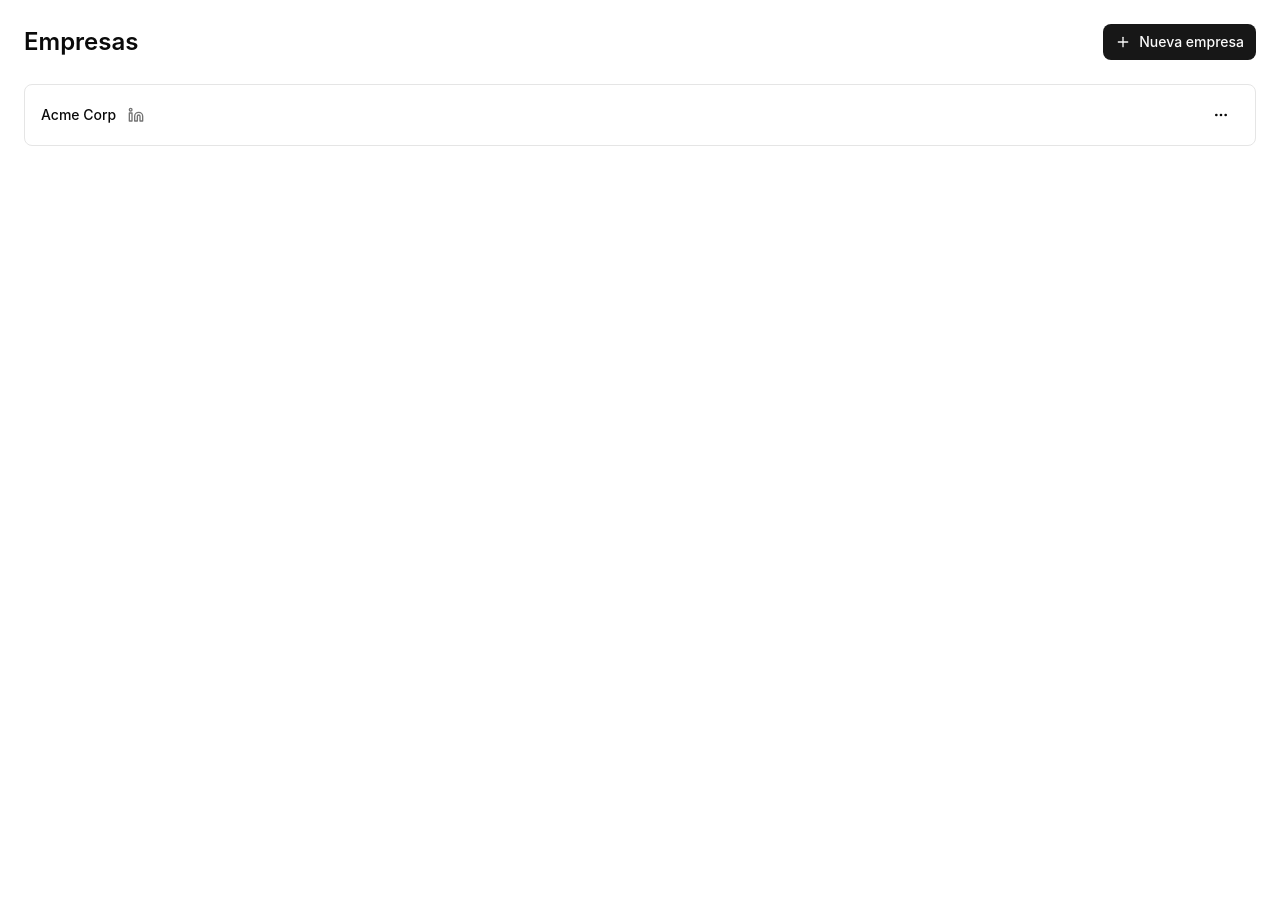
CompaniesPage › editing a company › opens the edit dialog preloaded (null → empty), saves via updateCompany and shows "Cambios guardados"
Expected: the link "Acme Corp" is shown, left=41, top=105, right=116, bottom=125
Click the button named "Acciones": x=1221, y=115 left=1203, top=97, right=1239, bottom=133
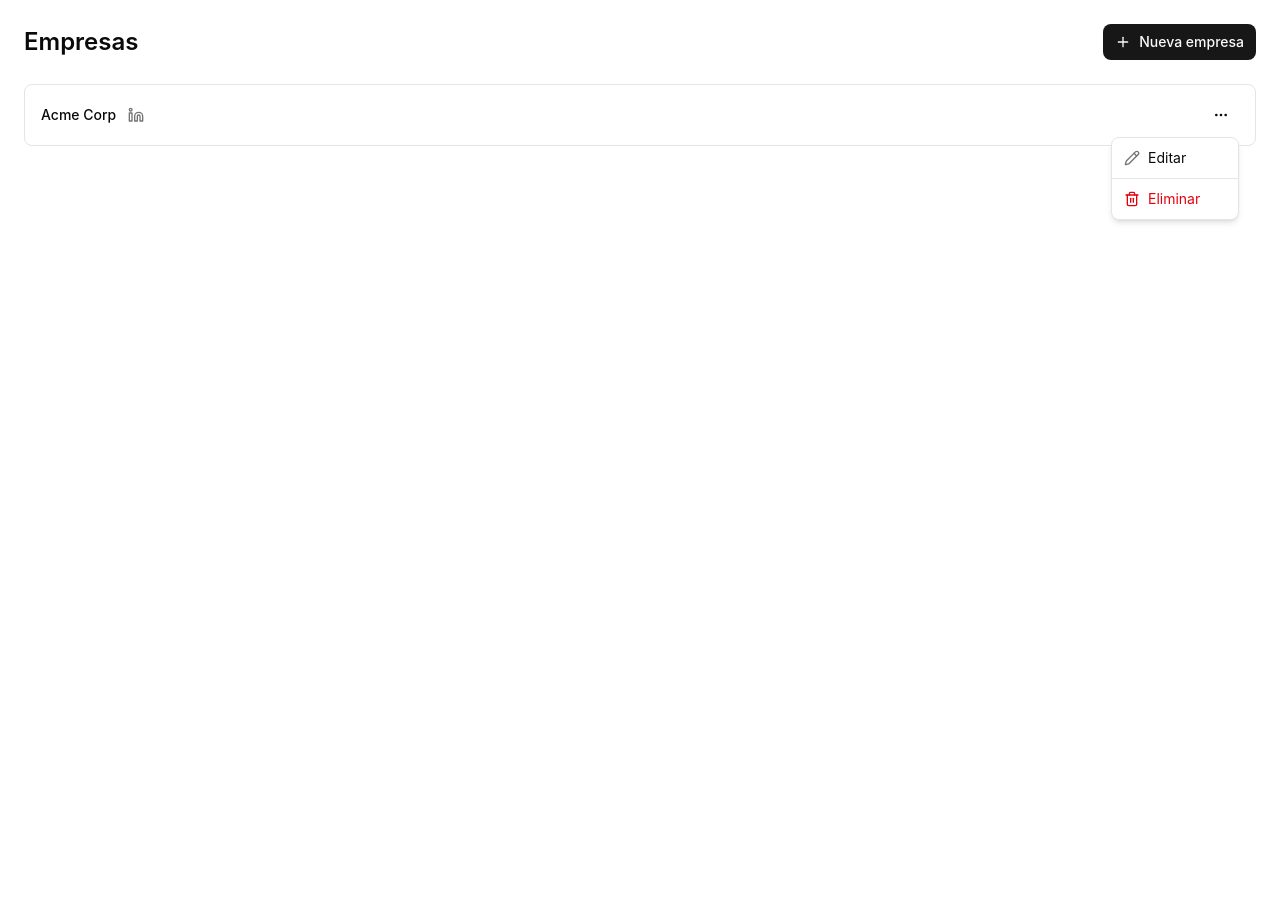
Click the menu item "Editar": x=1155, y=158 left=1124, top=149, right=1186, bottom=166
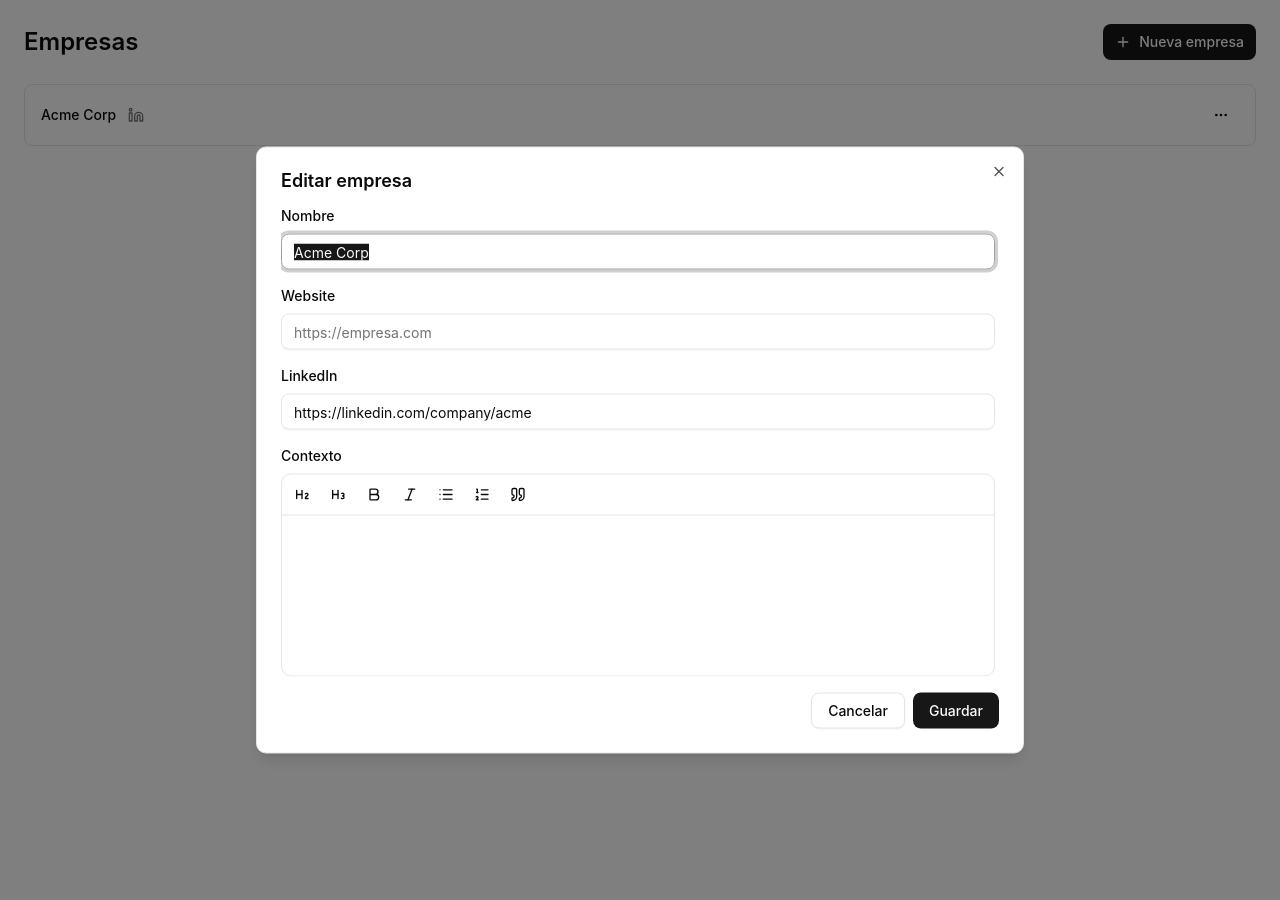
Result: the heading "Editar empresa" is shown at left=281, top=170, right=412, bottom=190
Result: the field labelled "Nombre" holds "Acme Corp"
Result: the field labelled "Website" is empty at left=281, top=314, right=995, bottom=350
Replace the text in the field labelled "Nombre" with "Acme Corporation": x=638, y=252 left=281, top=234, right=995, bottom=270
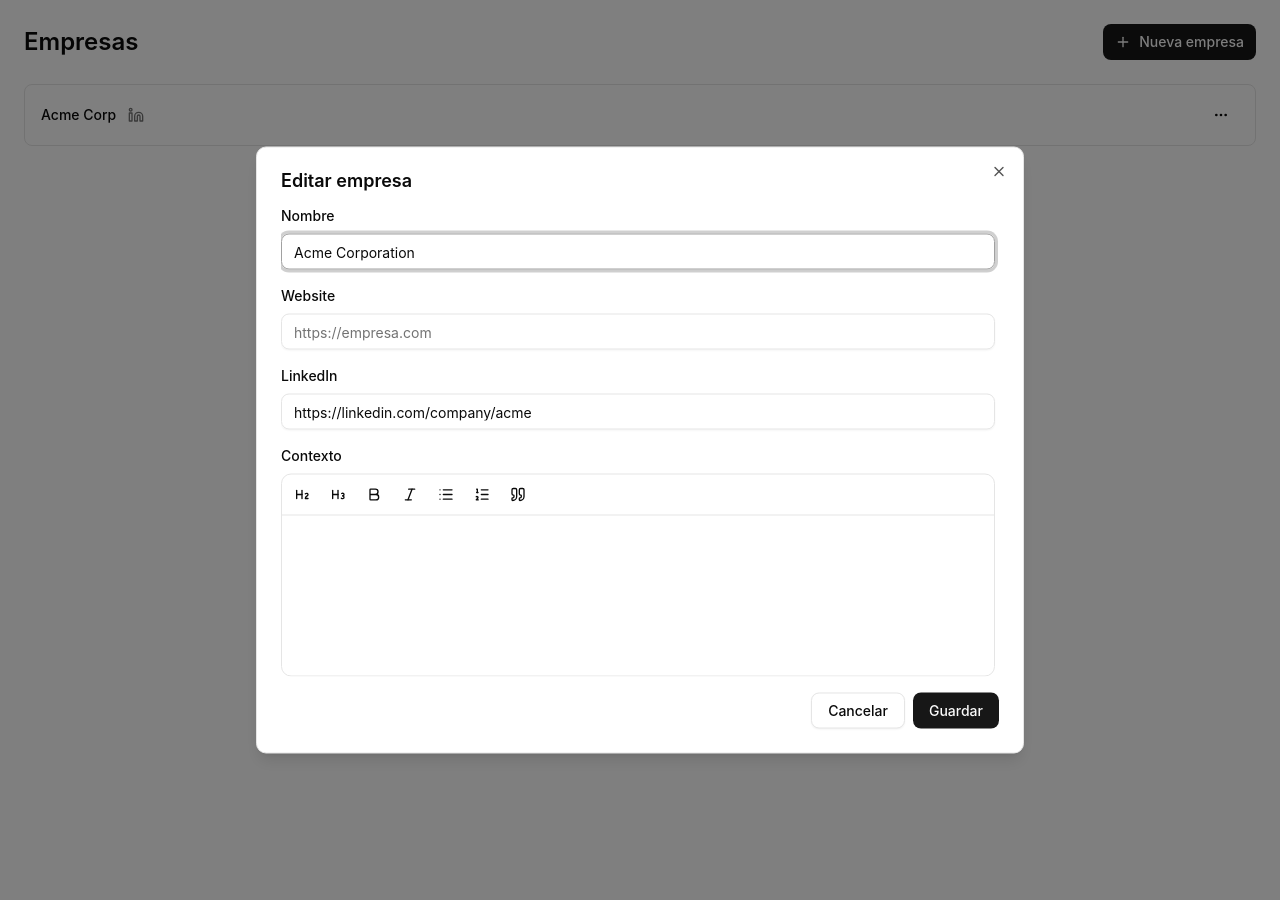
In the field labelled "Website": x=638, y=332 left=281, top=314, right=995, bottom=350, type "https://acme.example"
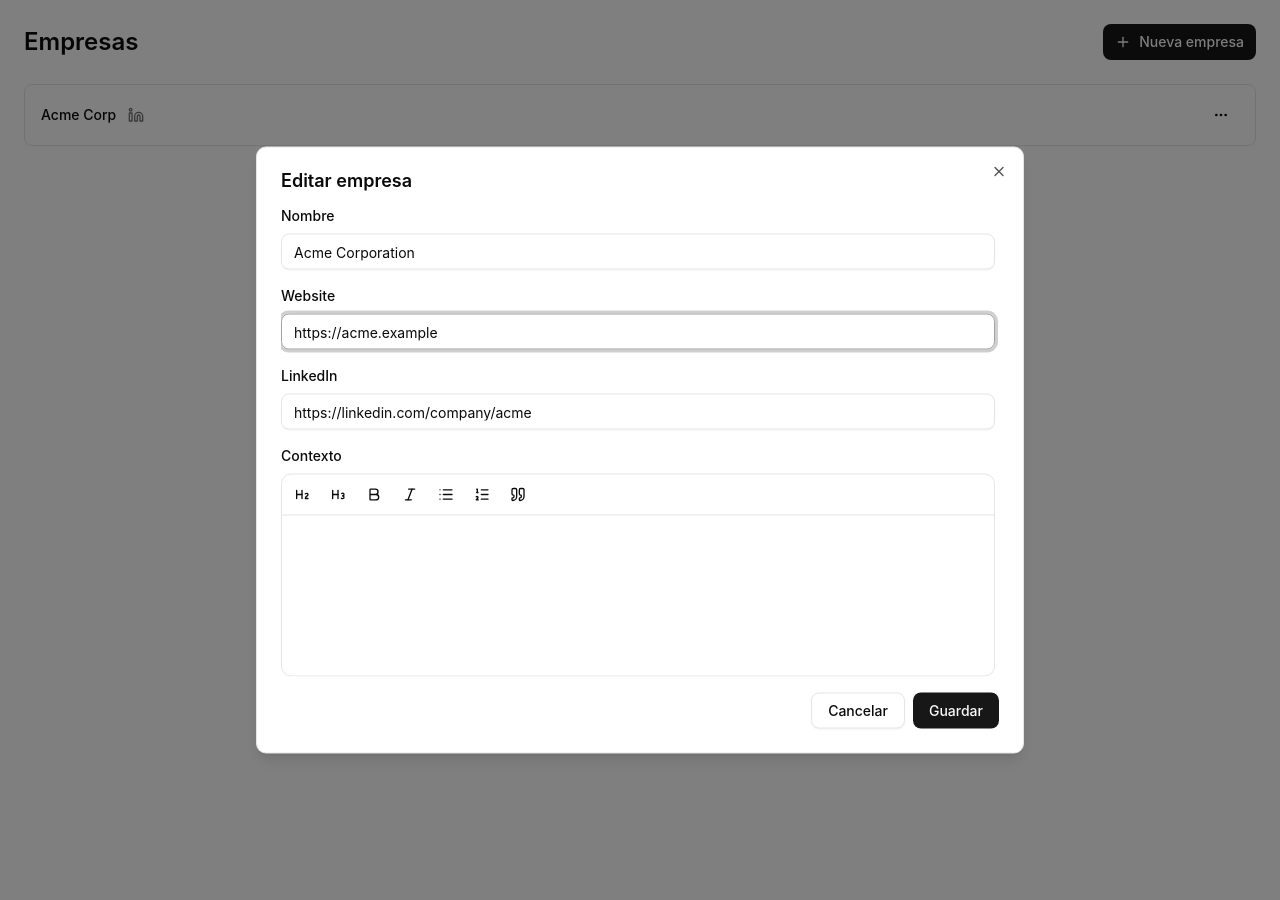
Click the button "Guardar": x=956, y=710 left=913, top=692, right=999, bottom=728
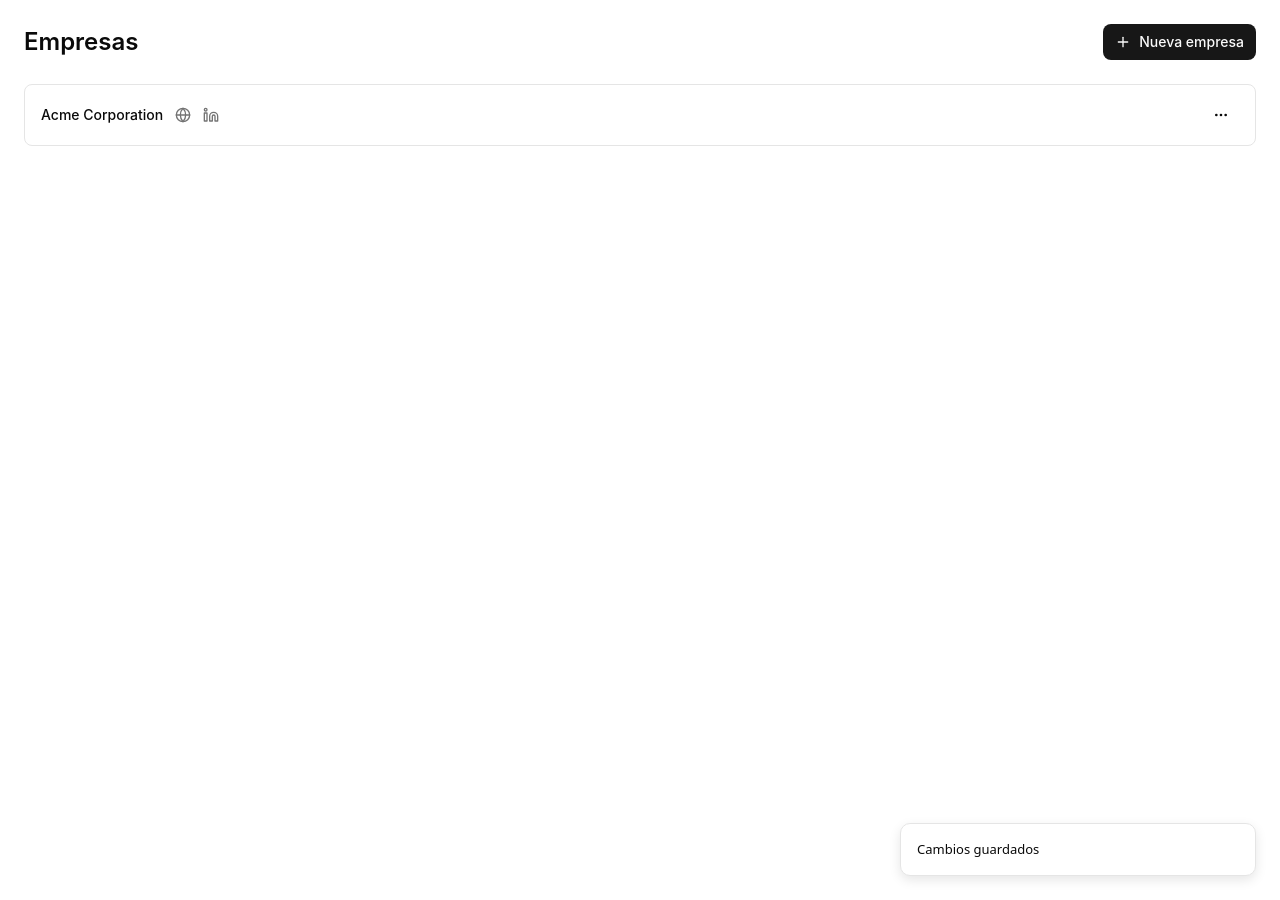
Result: the link "Acme Corporation" is shown at left=41, top=105, right=163, bottom=125
